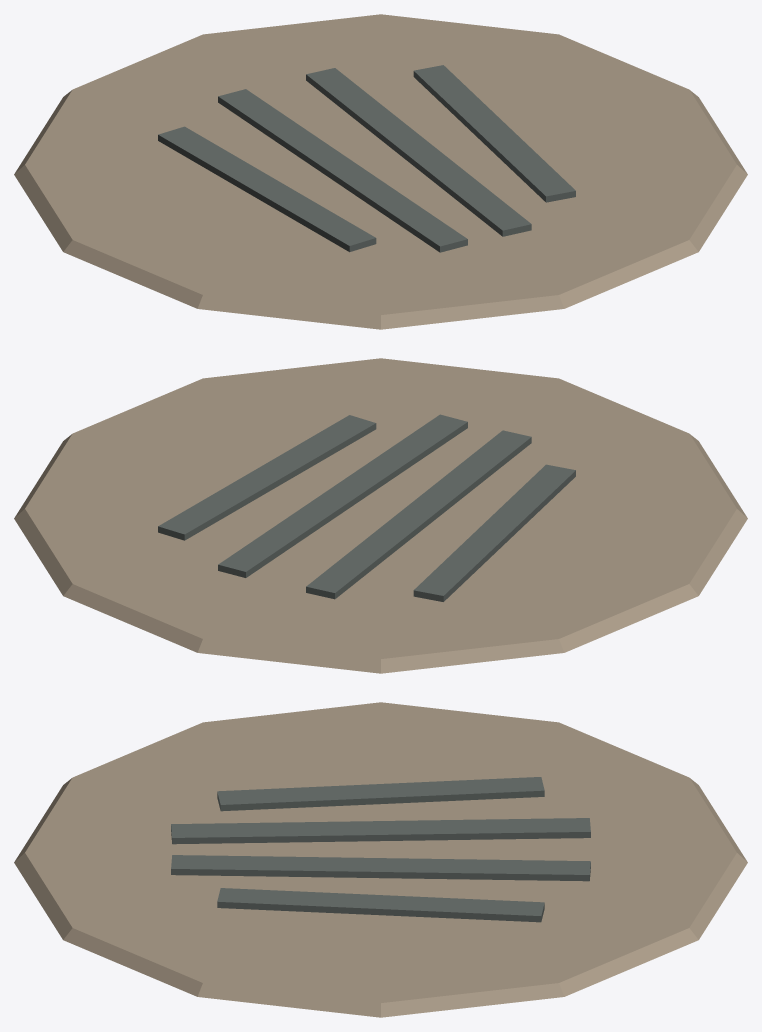
Rendered from dragons-and-wyverns-claw-marks-ground-plate-fc2a273d__36746.glb.
The picture shows the model from 3 angles, top to bottom: view 1: azimuth 30°, elevation 25°; view 2: azimuth 150°, elevation 25°; view 3: azimuth 270°, elevation 25°; orthographic projection.
Parts seen in each view (by area): view 1: claw-marks-ground-plate; view 2: claw-marks-ground-plate; view 3: claw-marks-ground-plate.
Part boxes in pixels (x1=…): claw-marks-ground-plate: x1=14, y1=14, x2=747, y2=329; claw-marks-ground-plate: x1=14, y1=358, x2=747, y2=673; claw-marks-ground-plate: x1=14, y1=702, x2=747, y2=1017.
Size of the model in its own units: 2.68 by 0.0649 by 2.68.
